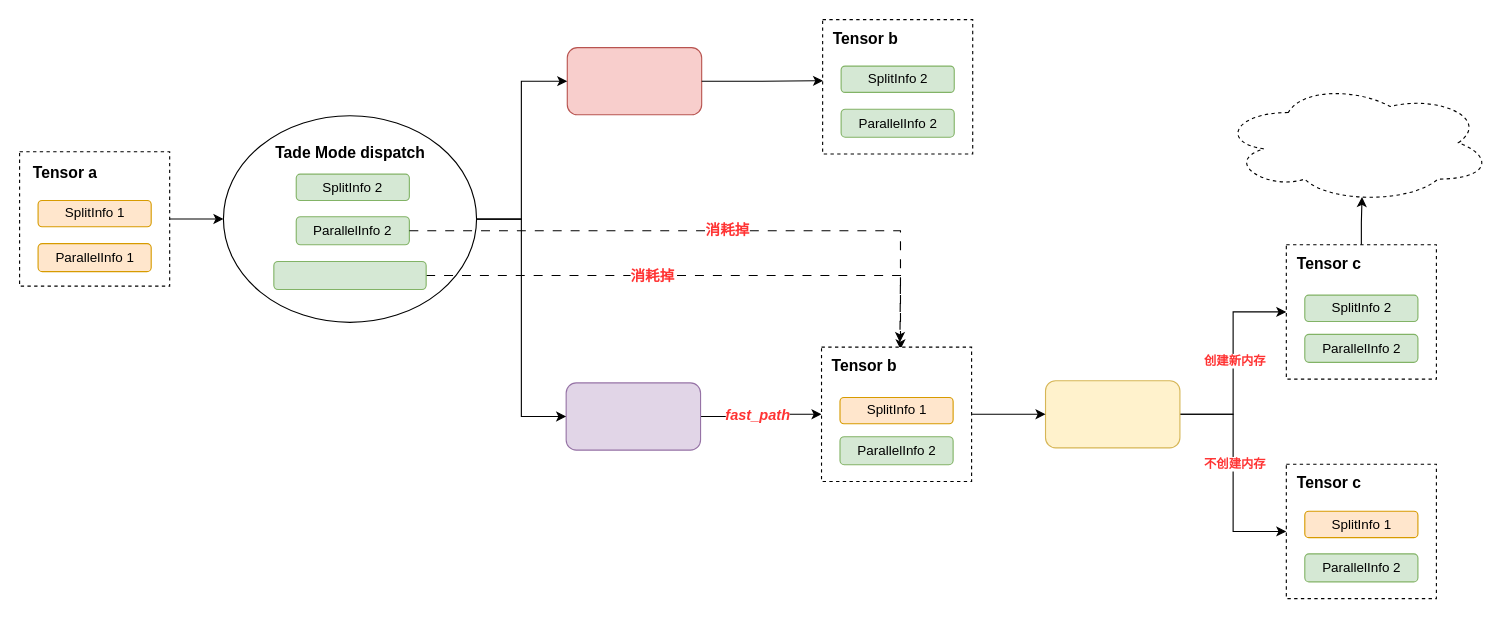
This 1512x618 diagram has some shape labels left out. The shapes that lost their labels are listed below. From the top down, each one's centre as x and y in pixels, then its label:
At point (634, 80): "计算算子".
At point (1355, 142): "SplitInfo2 可由 ParalleInfo2 得到 （setSplitInfoFromPlcAndMesh）".
At point (349, 275): "MeshAllocInfosManager".
At point (633, 416): "view-like 算子".
At point (1112, 414): "contiguous".
